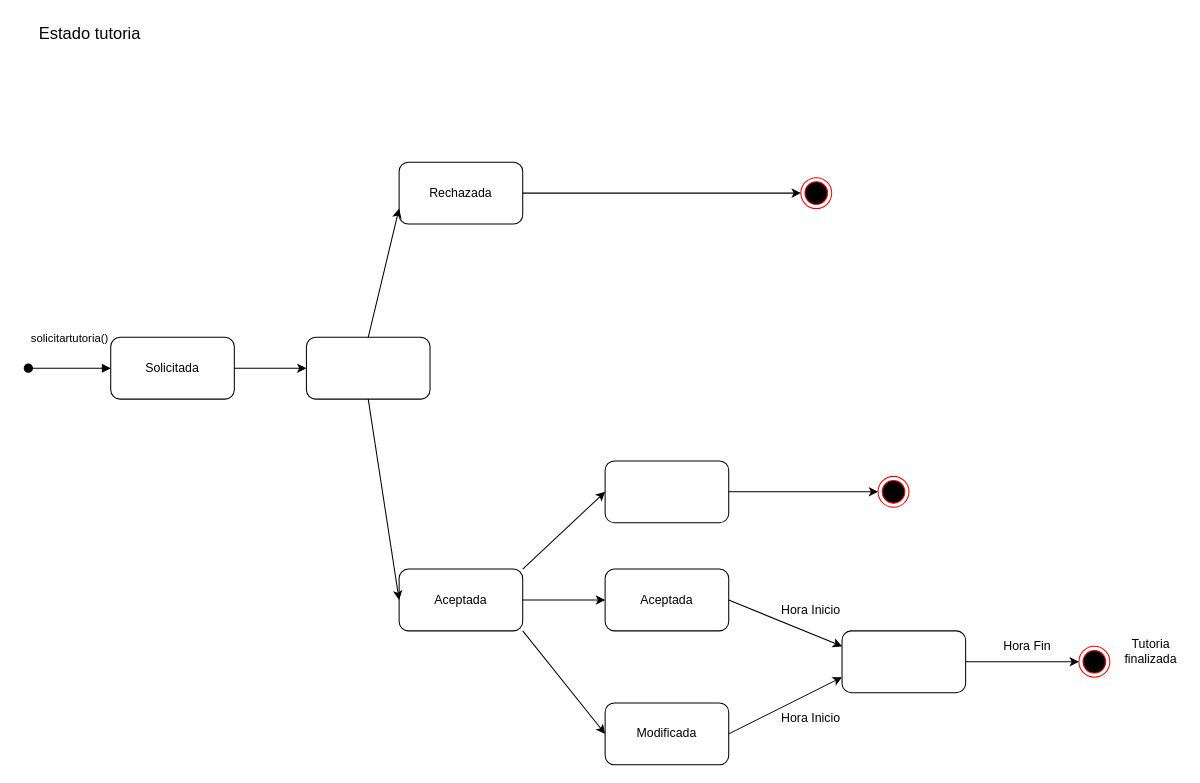
The diagram is 1200 pixels wide and 783 high, and some of its shapes have lost their labels. The shapes that lost their labels are listed below. From the top down, each one's centre as x and y in pixels, then its label:
At point (367, 367): "En espera".
At point (666, 491): "Cancelada".
At point (903, 661): "En curso".
